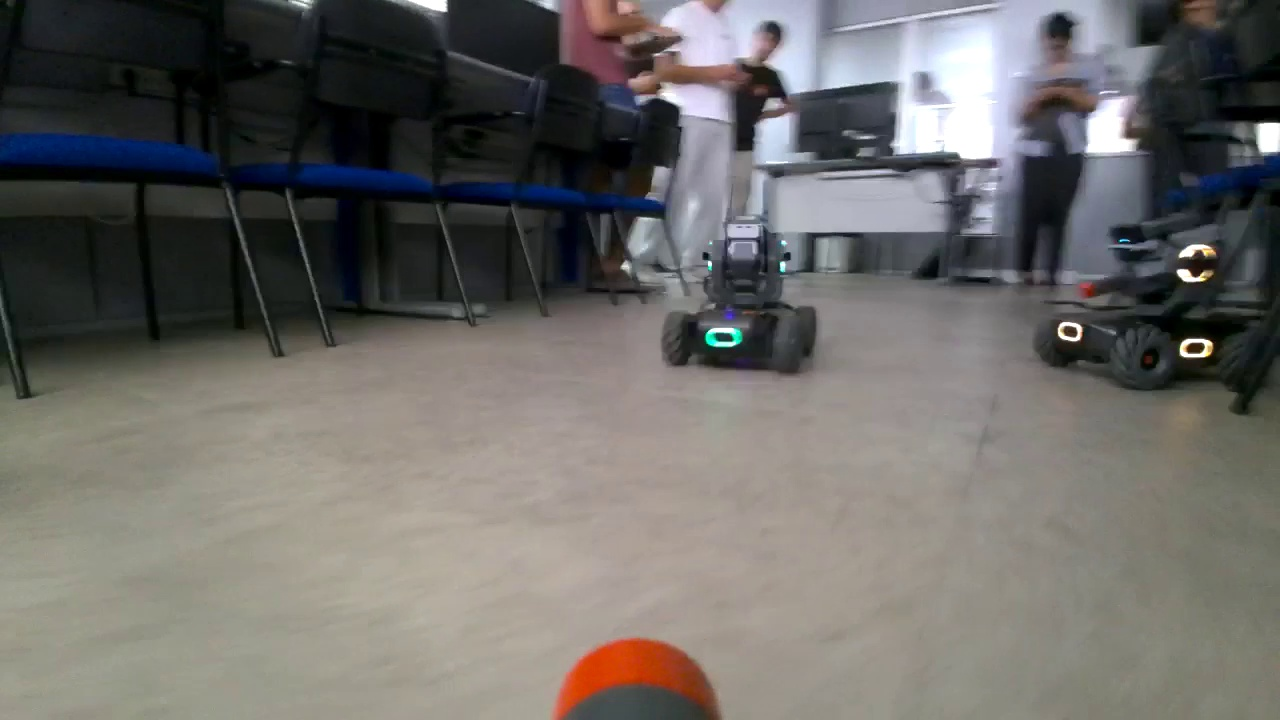robot: (1033, 210, 1269, 403), (660, 177, 818, 377)
